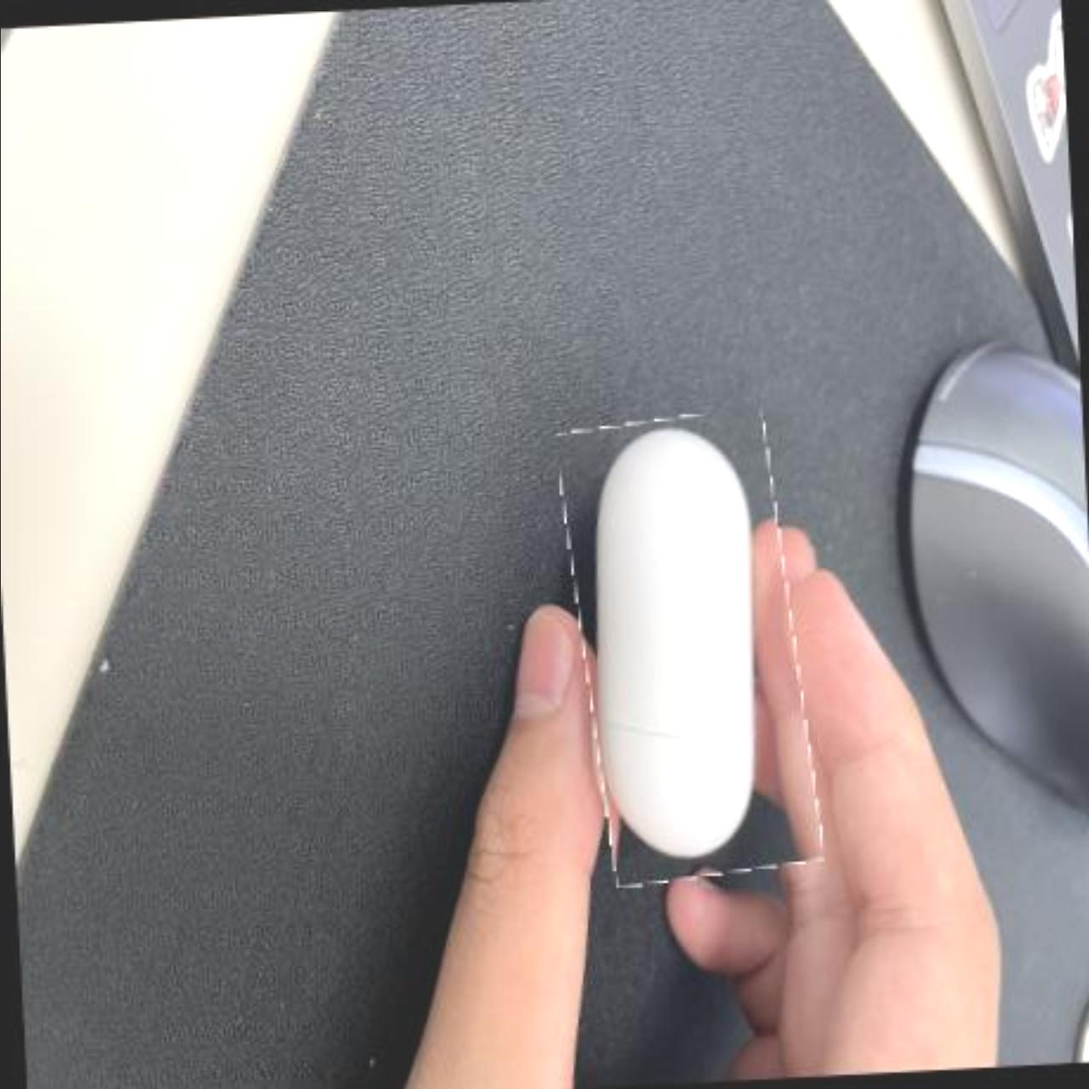AirPods: (565, 410, 815, 885)
